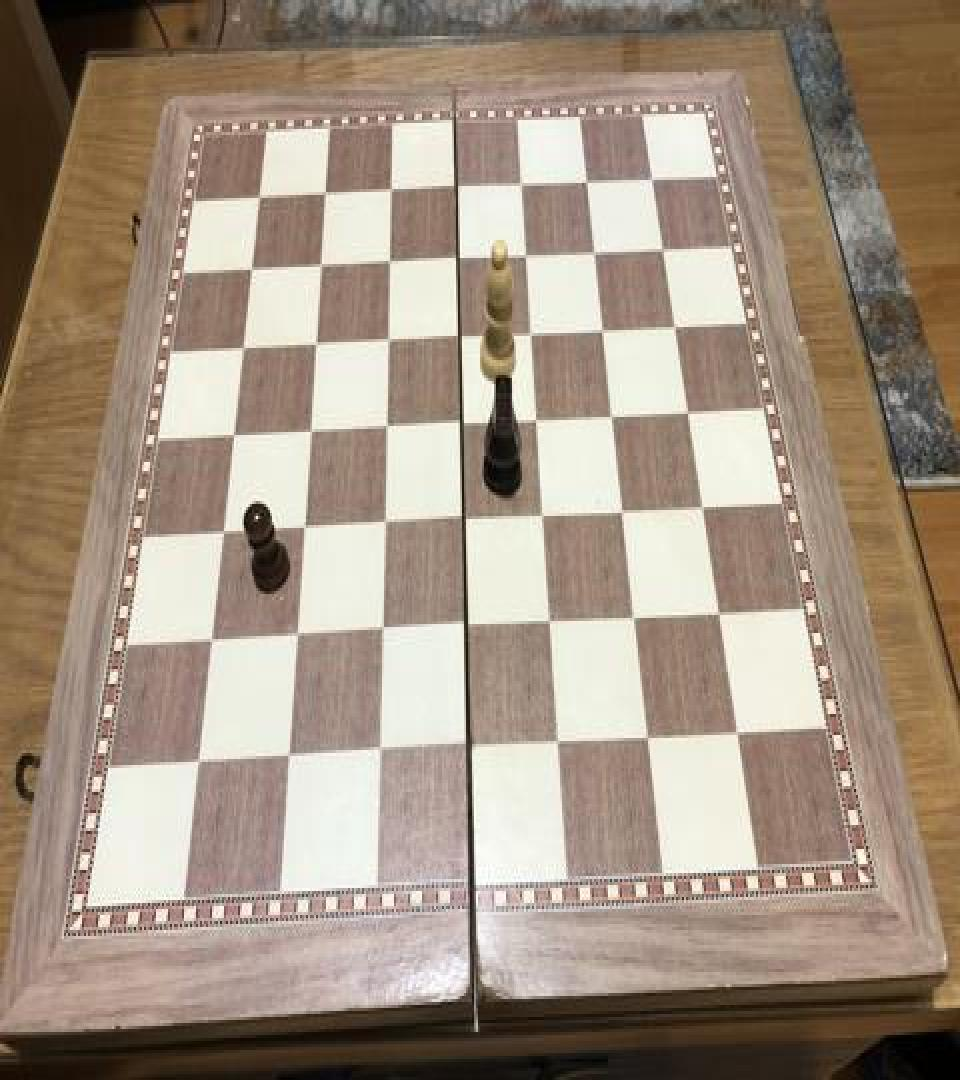xcorner: (292, 514, 316, 551), (369, 616, 393, 653), (199, 625, 223, 662), (642, 168, 666, 204), (577, 171, 601, 207), (511, 174, 535, 210), (446, 178, 470, 214), (380, 182, 404, 218), (315, 184, 339, 220), (653, 237, 677, 273), (584, 242, 608, 278), (516, 244, 540, 280), (447, 248, 471, 284), (378, 252, 402, 288), (310, 255, 334, 291), (664, 314, 688, 350), (592, 318, 616, 354), (520, 322, 544, 358), (448, 326, 472, 362), (376, 330, 400, 366), (304, 333, 328, 369), (232, 338, 256, 374), (677, 399, 701, 435), (601, 404, 625, 440), (526, 406, 550, 442), (450, 411, 474, 447), (374, 416, 398, 452), (298, 418, 322, 454), (222, 423, 246, 459), (691, 494, 715, 530), (611, 498, 635, 534), (532, 501, 556, 537), (452, 506, 476, 542), (372, 510, 396, 546), (212, 519, 236, 555), (707, 598, 731, 634), (623, 603, 647, 639), (538, 608, 562, 644), (454, 612, 478, 648), (284, 621, 308, 657), (725, 716, 749, 752), (635, 722, 659, 758), (546, 726, 570, 762), (456, 730, 480, 766), (366, 736, 390, 772), (276, 741, 300, 777), (186, 746, 210, 782), (249, 188, 273, 223), (241, 260, 265, 295)
